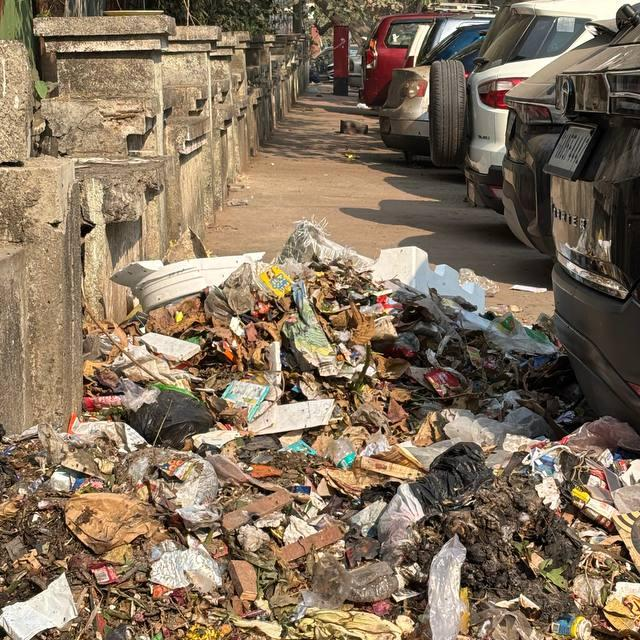plastic: (409, 434, 495, 506), (419, 540, 479, 640), (0, 568, 82, 640), (129, 385, 215, 438), (299, 427, 366, 471), (218, 378, 278, 415), (424, 360, 470, 401)
